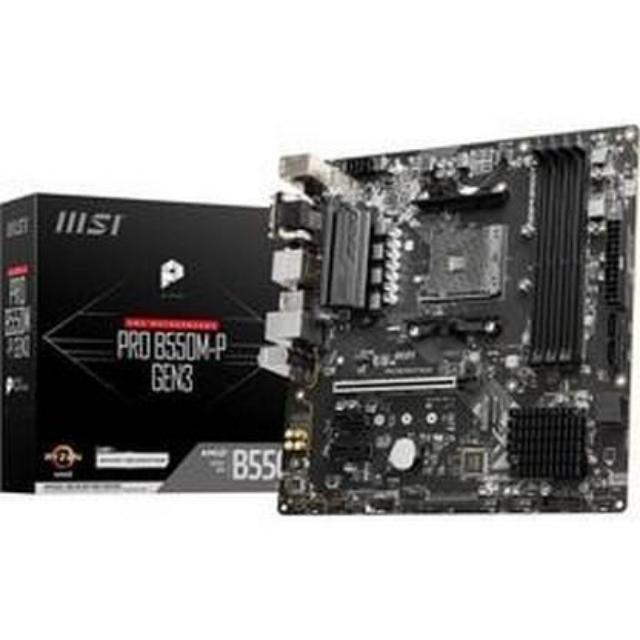Mainboard: (264, 121, 639, 527)
